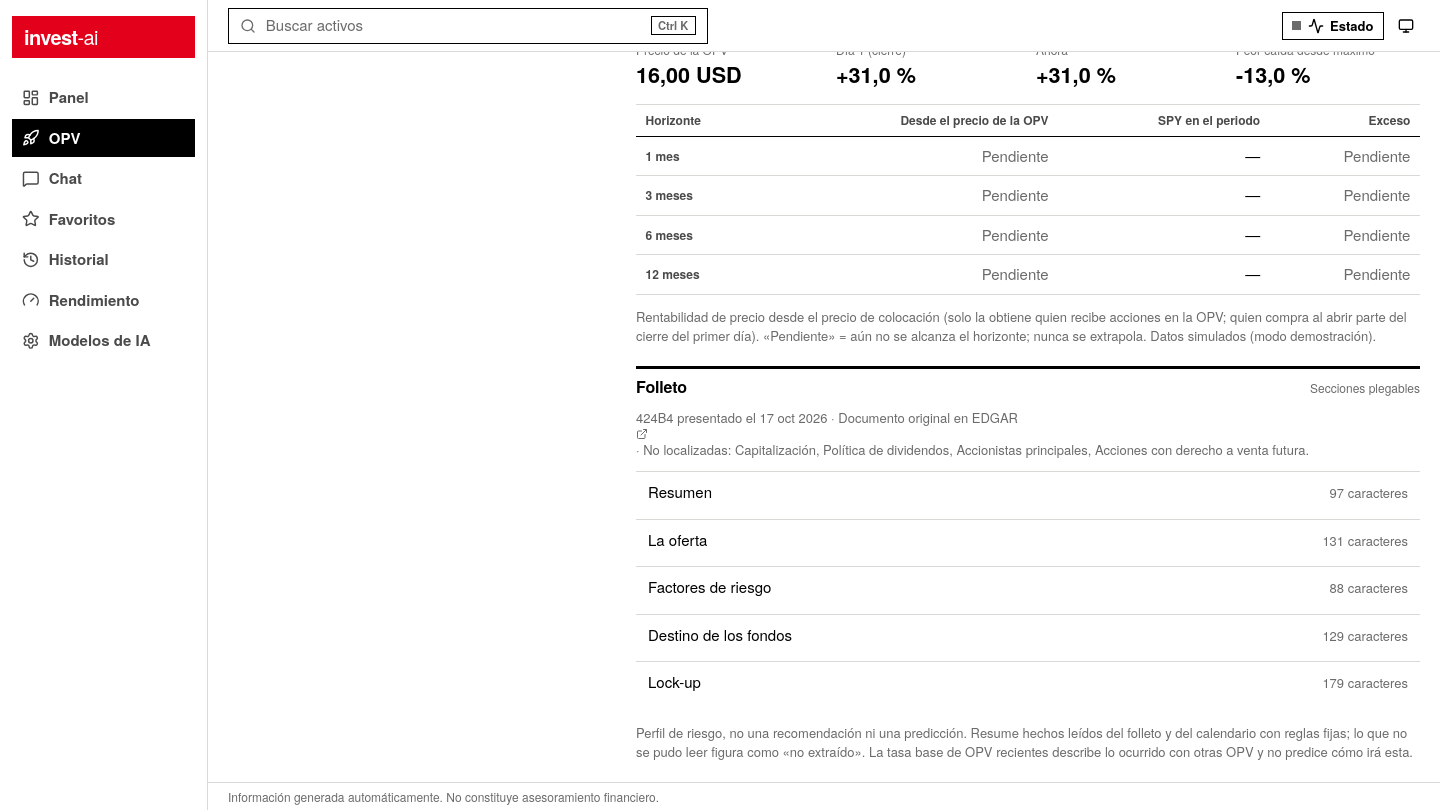
Test: OPV › secciones del folleto plegables
The width and height of the screenshot is (1440, 810).
(page scrolled)
Click the text "Destino de los fondos" at [720, 634], box [648,624,792,645]
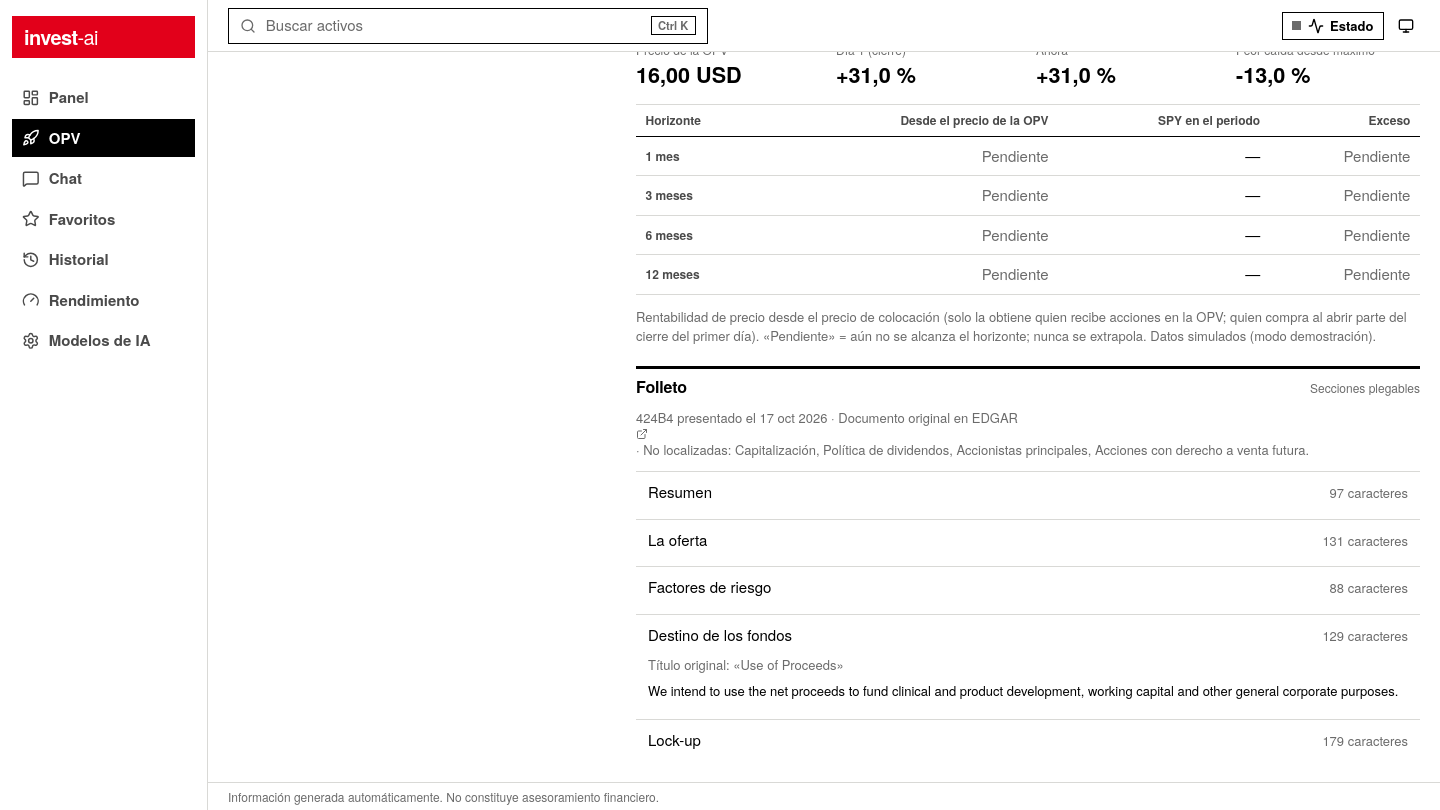
Expected: the text "net proceeds to fund clinical" is shown, [648,681,1398,700]
